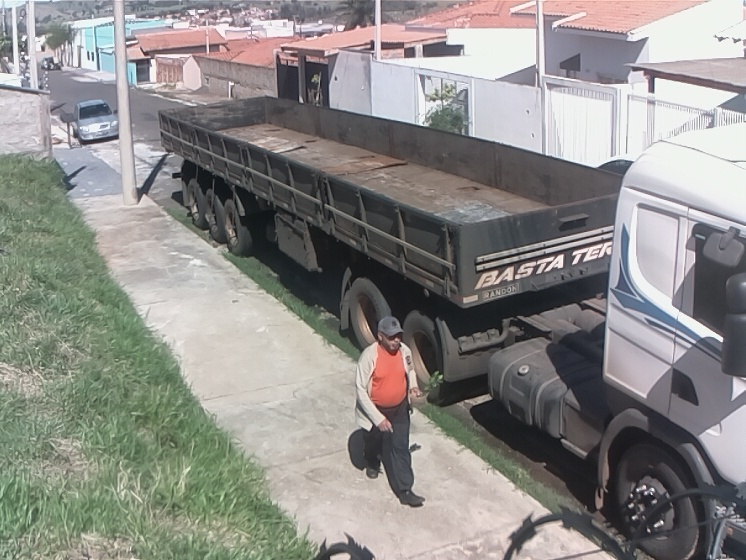person: (352, 314, 434, 508)
